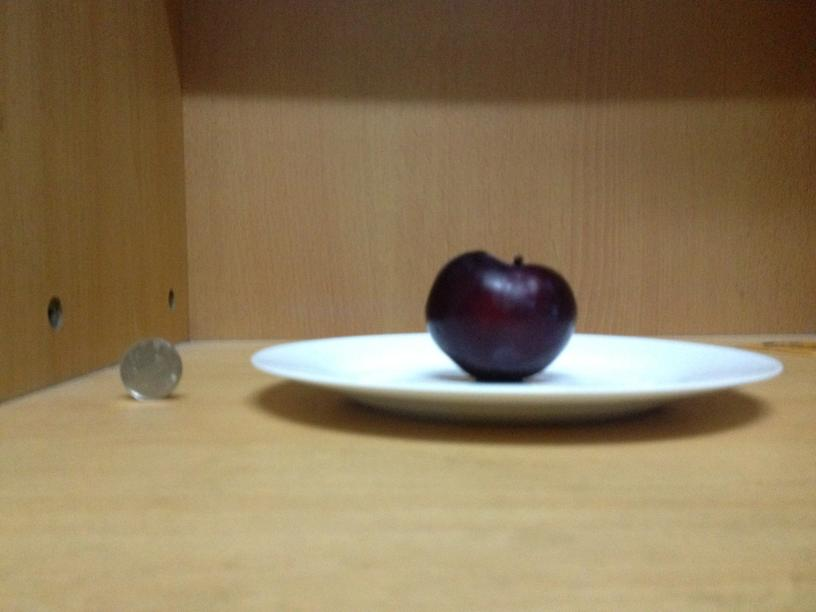coin: (119, 338, 183, 401)
plum: (423, 247, 574, 384)
